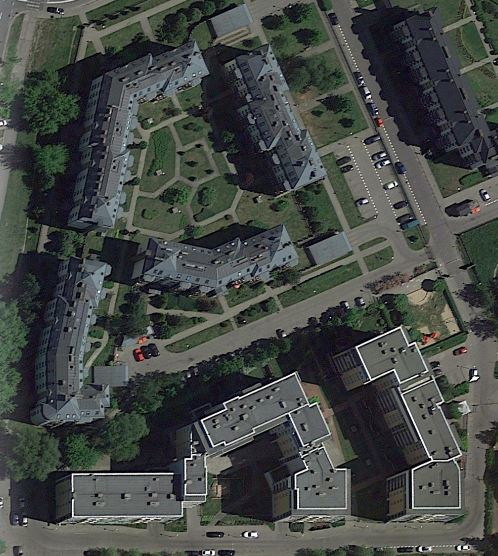block of flats: (53, 360, 363, 531), (60, 36, 211, 236), (330, 324, 476, 527), (389, 4, 498, 174), (224, 40, 334, 199), (28, 252, 116, 427), (130, 222, 302, 299)
